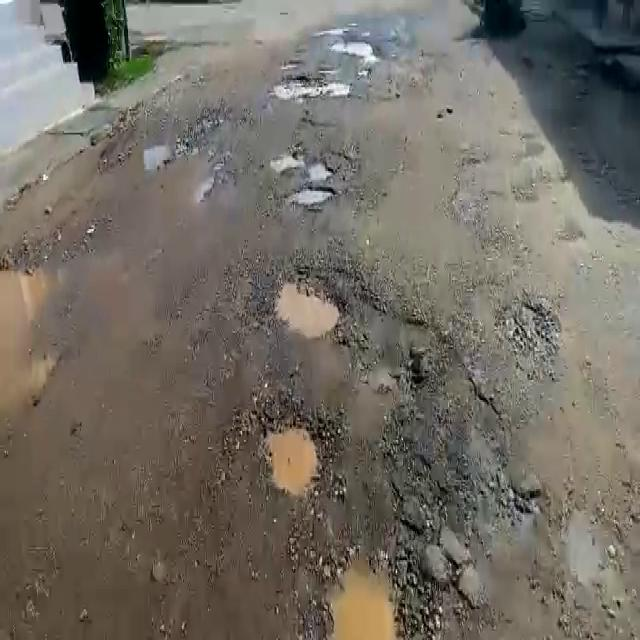Pothole: (323, 552, 398, 640), (270, 271, 345, 338), (261, 421, 322, 494), (267, 71, 345, 101), (268, 153, 336, 179), (285, 180, 336, 206), (333, 34, 385, 58)
